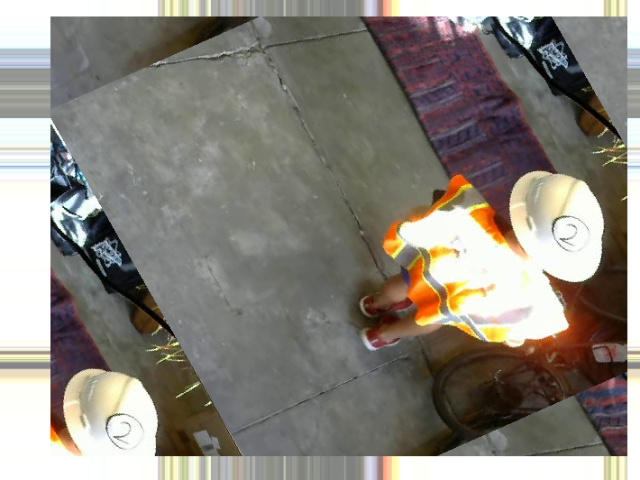two: (545, 208, 597, 258)
